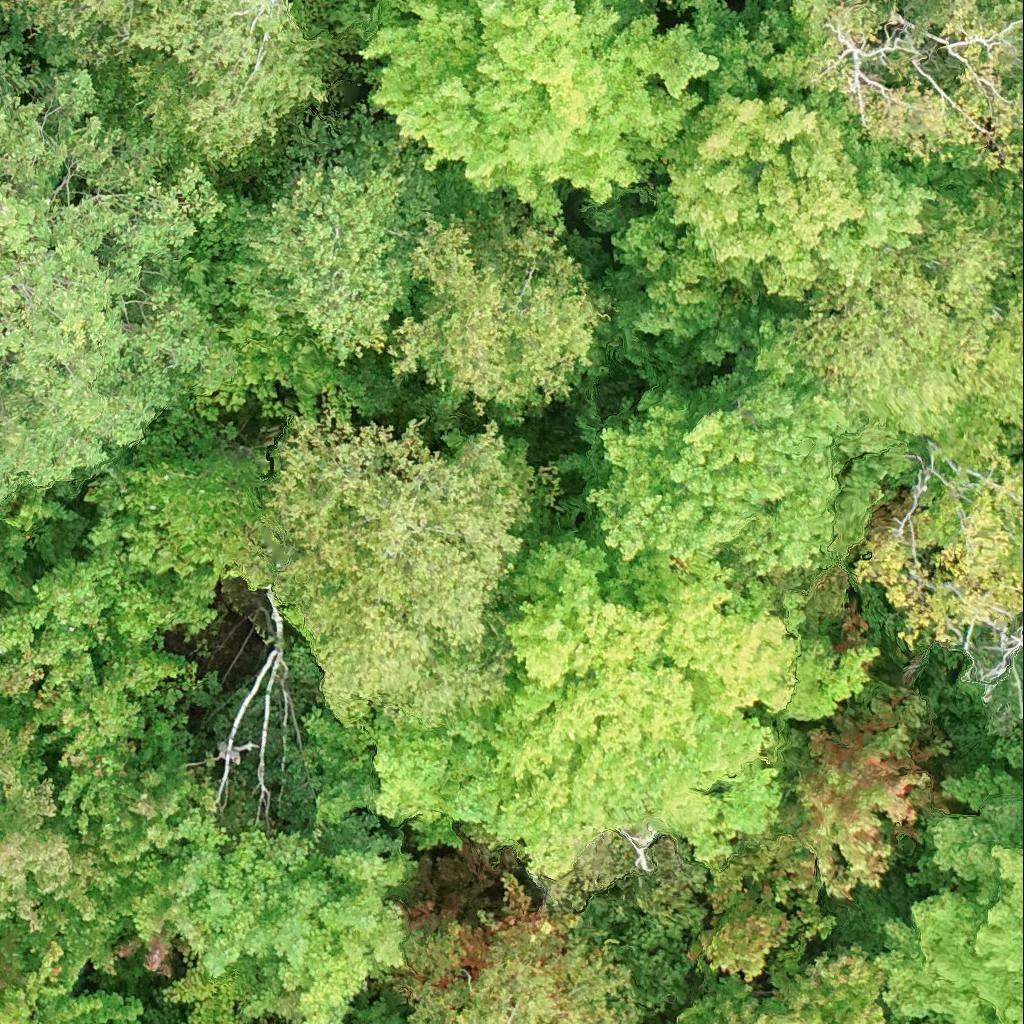crown: (304, 534, 879, 879), (615, 0, 941, 375), (0, 44, 224, 511), (245, 410, 527, 723), (560, 318, 899, 577), (198, 98, 516, 368), (358, 0, 716, 239), (688, 670, 945, 980), (131, 792, 415, 1023), (779, 185, 1023, 435), (388, 207, 607, 419), (0, 521, 222, 729), (812, 0, 1023, 217), (119, 0, 342, 175), (0, 722, 144, 986), (880, 767, 1023, 1023), (395, 873, 639, 1023), (850, 458, 1023, 651), (36, 698, 217, 865), (81, 451, 280, 579), (572, 866, 707, 1015), (0, 0, 144, 121), (770, 939, 914, 1023), (0, 940, 141, 1023), (670, 969, 810, 1023), (350, 1002, 410, 1023), (751, 0, 787, 20), (1009, 751, 1023, 772), (830, 0, 852, 8), (598, 0, 606, 5)
